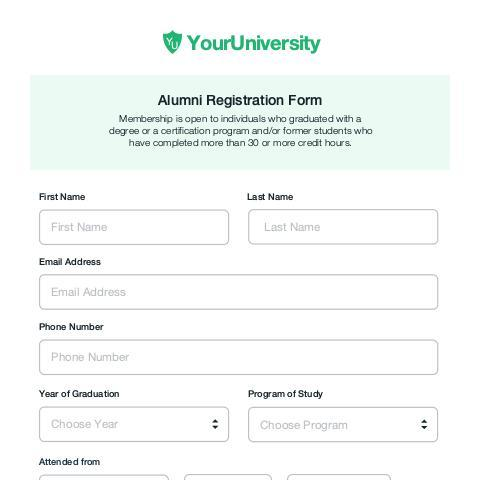dropdown: (39, 406, 231, 443), (249, 407, 439, 444)
input: (40, 339, 438, 377), (40, 274, 438, 311), (40, 210, 230, 245), (248, 211, 439, 245)
label: (107, 114, 376, 148), (156, 94, 323, 109), (39, 389, 121, 400), (247, 390, 324, 401), (39, 322, 106, 333), (38, 257, 104, 268), (246, 192, 295, 204), (39, 458, 100, 467), (38, 193, 86, 202)
